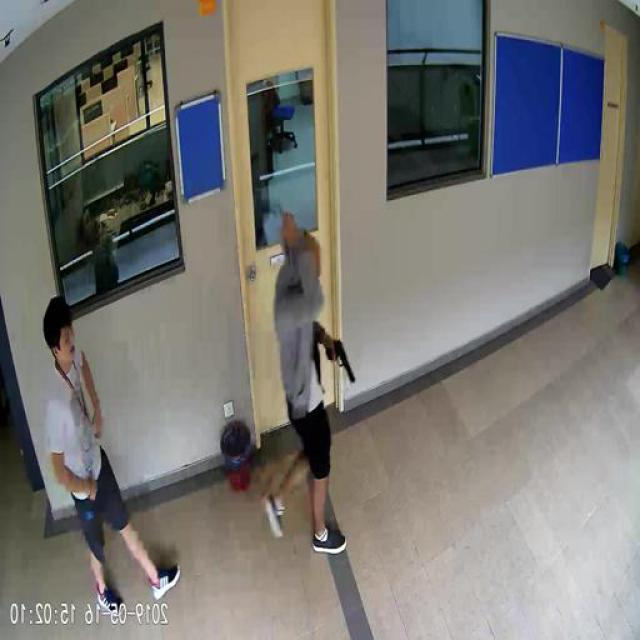Gun: (328, 335, 358, 384)
